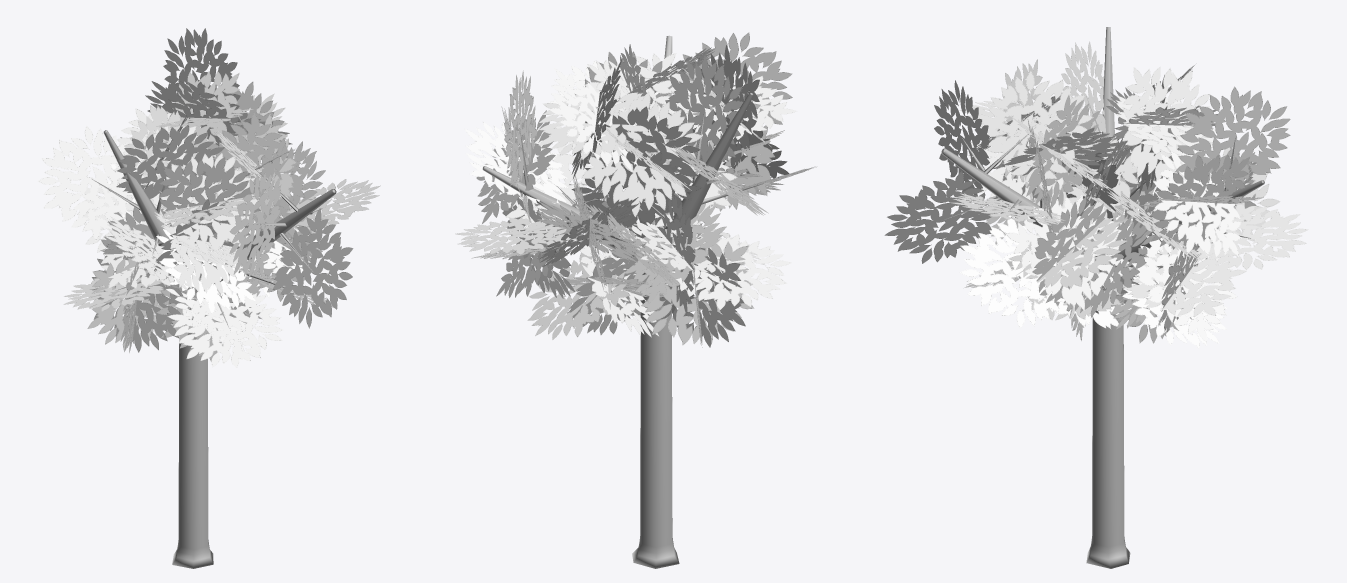
Rendered from TreeTest.fbx.
3 renders of one model, left to right at view 1: azimuth 30°, elevation 25°; view 2: azimuth 150°, elevation 25°; view 3: azimuth 270°, elevation 25°, orthographic. The views are drawn at different scales.
Parts seen in each view (by area): view 1: pCylinder5, TrunkBranch36, TrunkBranch20, TrunkBranch5, TrunkBranch13, TrunkBranch37, TrunkBranch40, TrunkBranch35, TrunkBranch6, TrunkBranch30, TrunkBranch8, TrunkBranch16 (+12 smaller); view 2: pCylinder5, TrunkBranch32, TrunkBranch40, TrunkBranch31, TrunkBranch33, TrunkBranch37, TrunkBranch6, TrunkBranch27, TrunkBranch39, TrunkBranch36, TrunkBranch19, TrunkBranch34 (+13 smaller); view 3: pCylinder5, TrunkBranch29, TrunkBranch33, TrunkBranch34, TrunkBranch40, TrunkBranch16, TrunkBranch14, TrunkBranch35, TrunkBranch5, TrunkBranch11, TrunkBranch17, TrunkBranch8 (+15 smaller).
Boxes of the visible parts, bbox=[...] form: pCylinder5: bbox=[103, 130, 336, 568]; TrunkBranch36: bbox=[159, 153, 260, 258]; TrunkBranch20: bbox=[38, 125, 142, 240]; TrunkBranch5: bbox=[272, 208, 353, 328]; TrunkBranch13: bbox=[167, 293, 283, 367]; TrunkBranch37: bbox=[87, 254, 182, 352]; TrunkBranch40: bbox=[145, 71, 253, 158]; TrunkBranch35: bbox=[207, 112, 305, 217]; TrunkBranch6: bbox=[116, 124, 224, 213]; TrunkBranch30: bbox=[154, 189, 251, 293]; TrunkBranch8: bbox=[229, 172, 286, 276]; TrunkBranch16: bbox=[163, 28, 240, 122]; pCylinder5: bbox=[482, 35, 753, 568]; TrunkBranch32: bbox=[581, 91, 702, 216]; TrunkBranch40: bbox=[538, 58, 652, 178]; TrunkBranch31: bbox=[616, 194, 739, 315]; TrunkBranch33: bbox=[464, 106, 567, 223]; TrunkBranch37: bbox=[640, 241, 754, 347]; TrunkBranch6: bbox=[665, 54, 743, 182]; TrunkBranch27: bbox=[536, 172, 642, 289]; TrunkBranch39: bbox=[558, 241, 663, 337]; TrunkBranch36: bbox=[669, 45, 796, 167]; TrunkBranch19: bbox=[666, 234, 791, 309]; TrunkBranch34: bbox=[471, 197, 589, 298]; pCylinder5: bbox=[941, 27, 1264, 568]; TrunkBranch29: bbox=[1005, 192, 1129, 310]; TrunkBranch33: bbox=[1139, 150, 1263, 256]; TrunkBranch34: bbox=[1123, 221, 1246, 342]; TrunkBranch40: bbox=[1113, 66, 1220, 180]; TrunkBranch16: bbox=[1174, 86, 1290, 191]; TrunkBranch14: bbox=[978, 71, 1093, 190]; TrunkBranch35: bbox=[1002, 95, 1125, 208]; TrunkBranch5: bbox=[884, 171, 1000, 263]; TrunkBranch11: bbox=[959, 215, 1062, 328]; TrunkBranch17: bbox=[1195, 205, 1308, 269]; TrunkBranch8: bbox=[934, 80, 989, 202].
Size of the model in its own units: 143 by 224 by 183.
